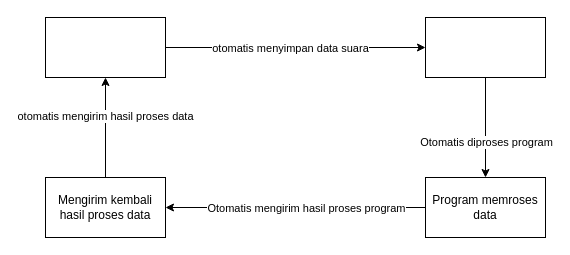
Some shapes in this 570 by 255 pixel diagram are drawn without their labels. Each missing label, with the box of its shape:
Komunikasi API: (44, 16, 166, 78)
Menyimpan data suara: (424, 16, 546, 78)
